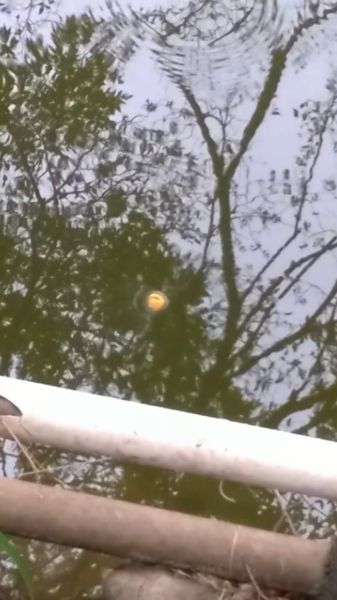eggs: (142, 288, 170, 317)
